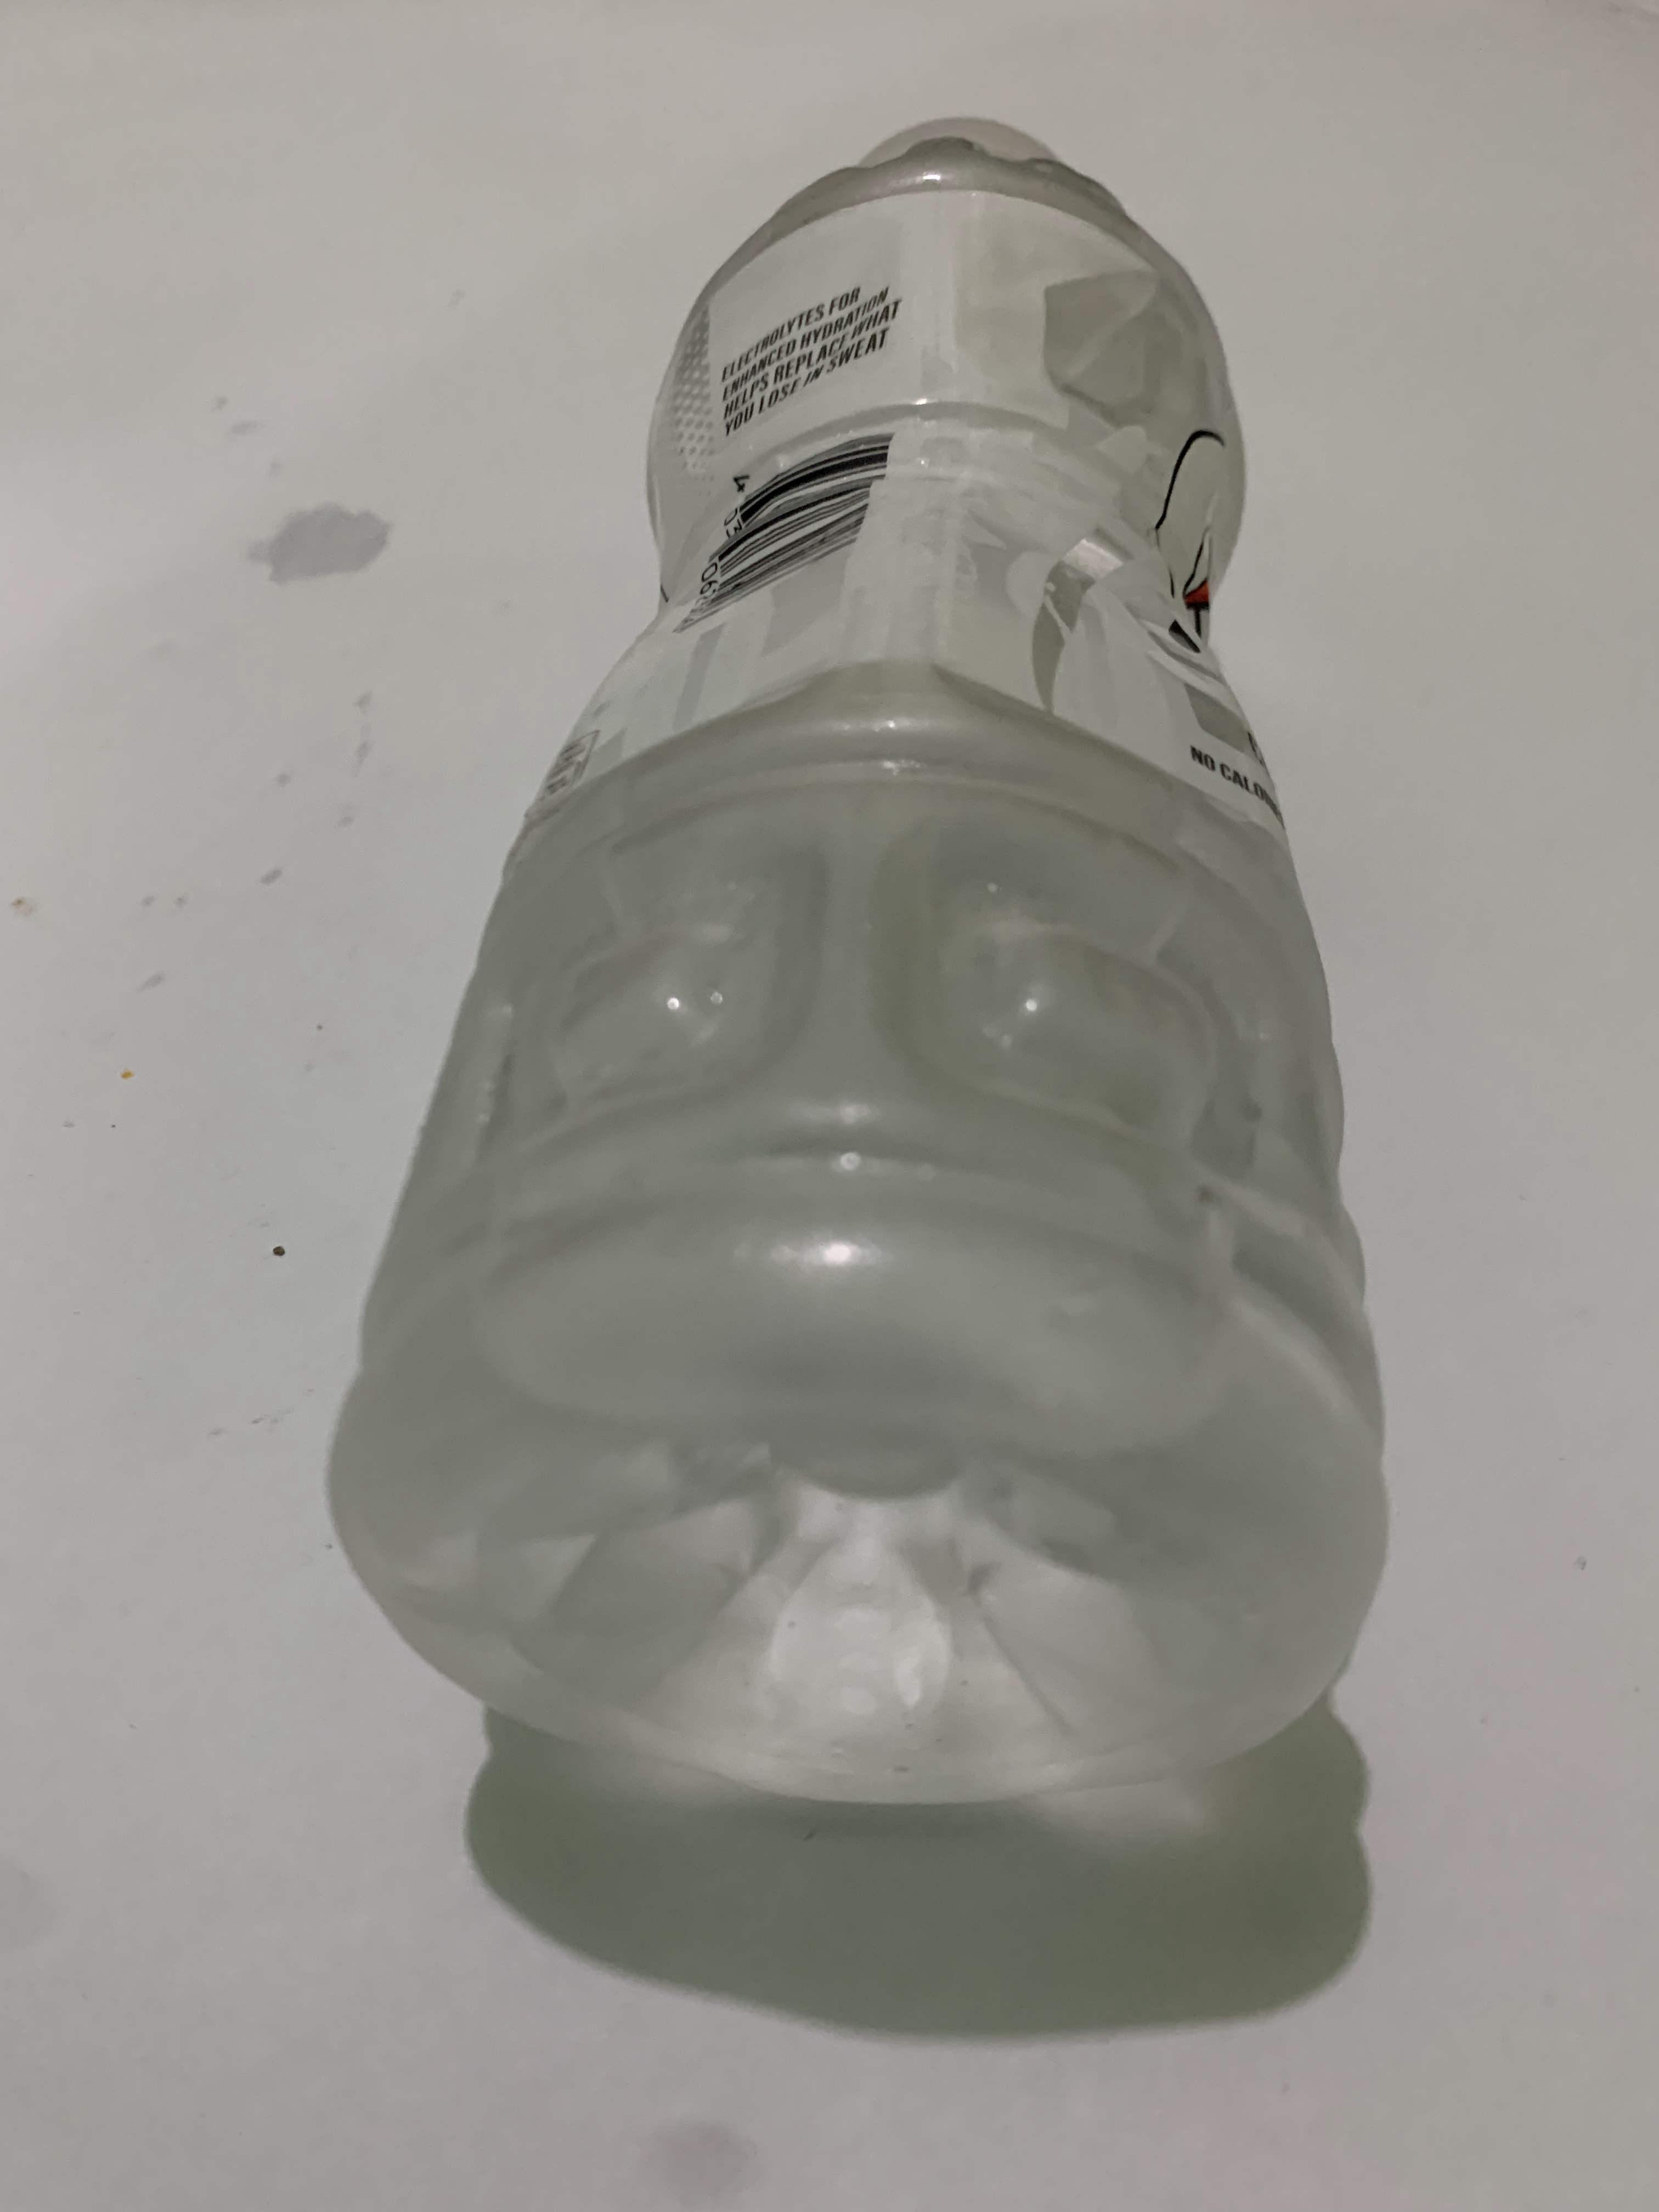bottle: (0, 87, 533, 1817)
